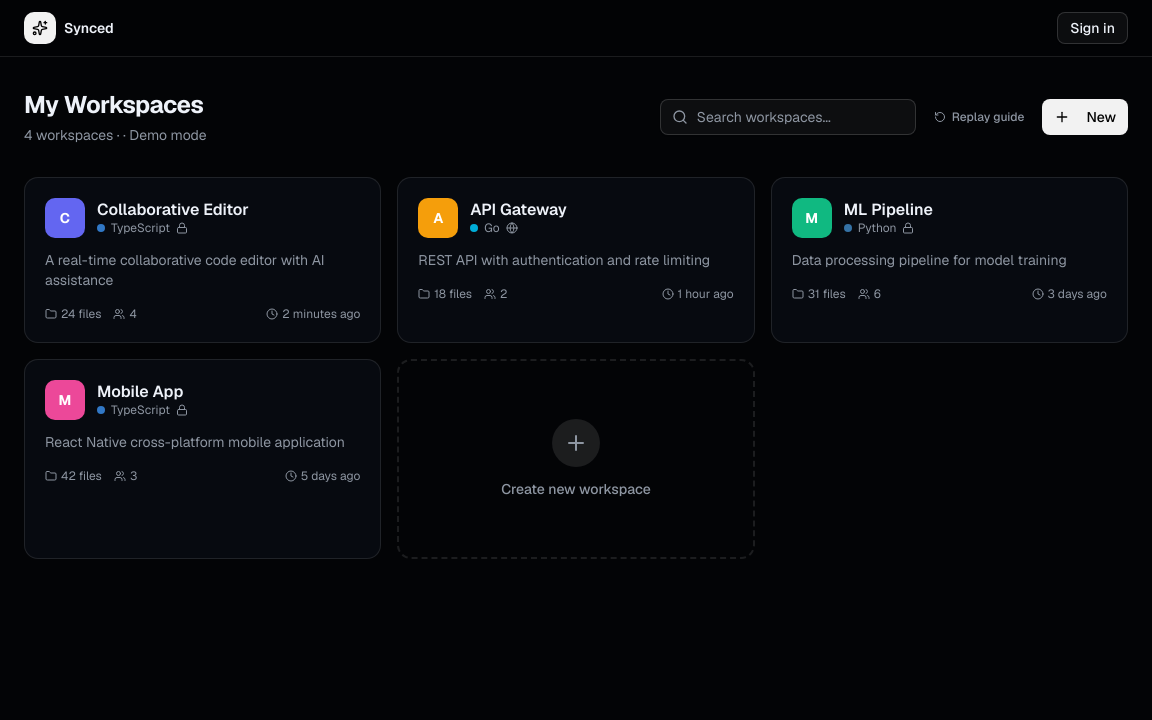
it: Dashboard Page › opens create dialog when clicking create card
Click the button "Create new workspace" at coordinates (576, 459), box x1=397 y1=359 x2=755 y2=559
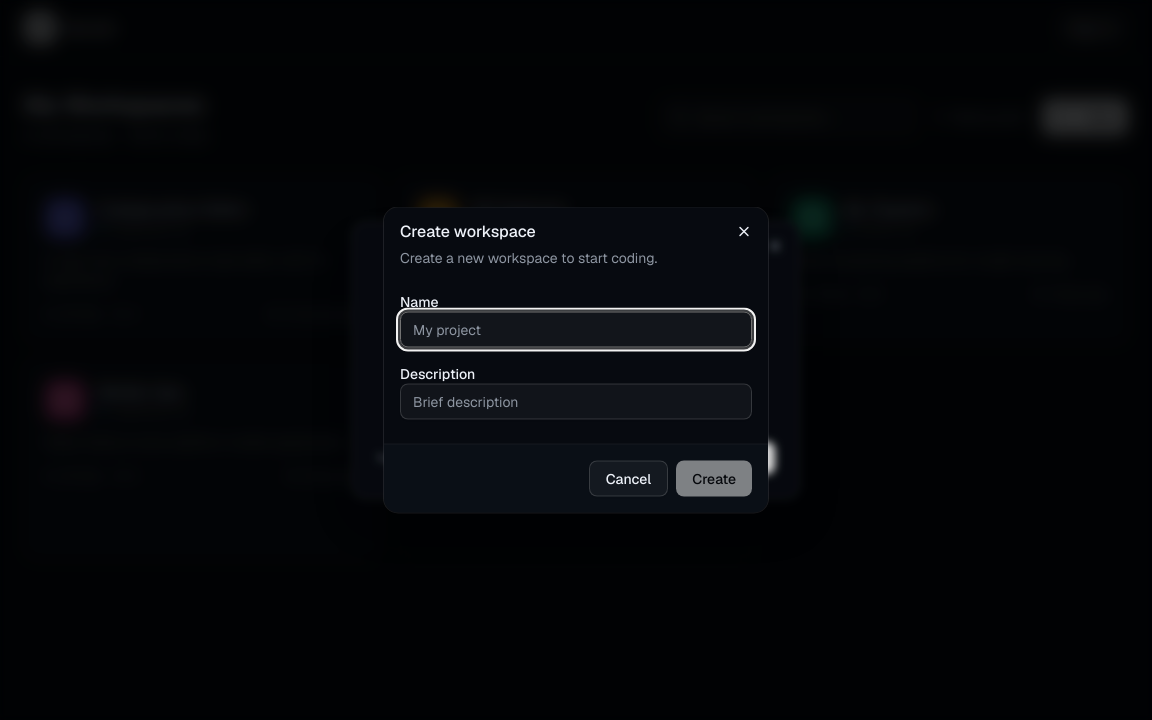
Result: the heading "Create workspace" is shown at x1=400 y1=220 x2=536 y2=242
